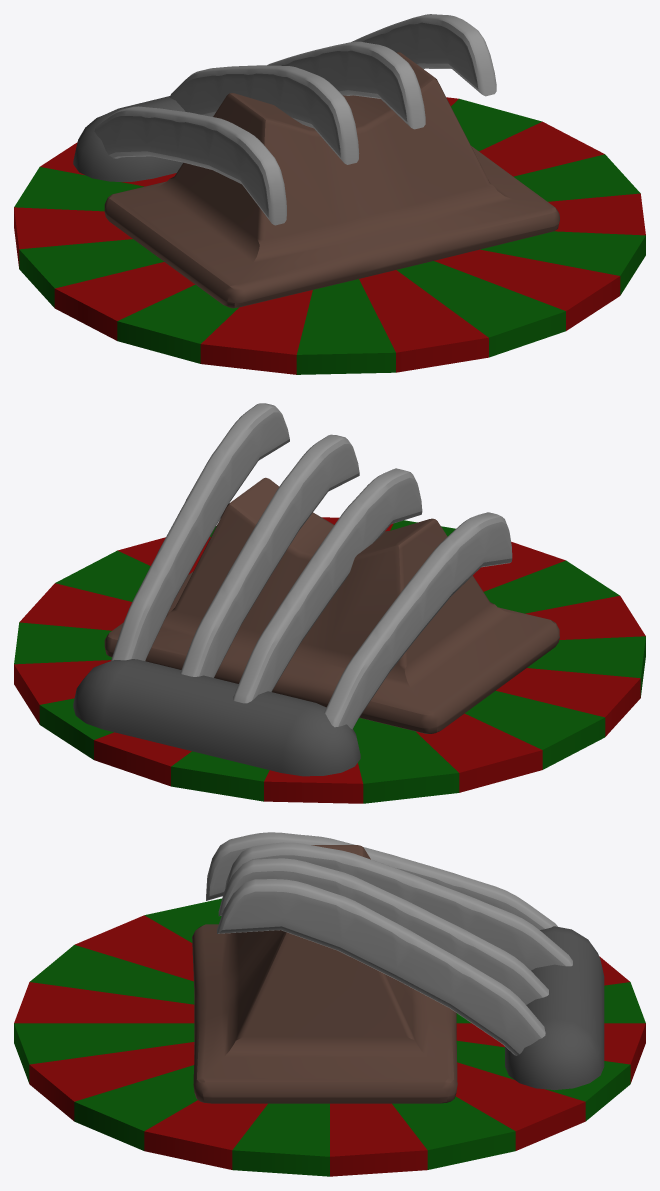
Rendered from Freddie.fbx.
3 renders of one model, top to bottom at view 1: azimuth 30°, elevation 25°; view 2: azimuth 150°, elevation 25°; view 3: azimuth 270°, elevation 25°, orthographic.
Parts seen in each view (by area): view 1: pCylinder1, pCube5, pasted__pasted__pasted__pCube6, pasted__pasted__pCube6, pCube6, pasted__pCube6, pCube7; view 2: pCylinder1, pCube5, pCube7, pasted__pCube6, pCube6, pasted__pasted__pCube6, pasted__pasted__pasted__pCube6; view 3: pCylinder1, pCube5, pasted__pCube6, pCube7, pasted__pasted__pCube6, pCube6, pasted__pasted__pasted__pCube6.
Boxes of the visible parts, x1=… form: pCylinder1: x1=14, y1=97, x2=645, y2=374; pCube5: x1=104, y1=52, x2=559, y2=308; pasted__pasted__pasted__pCube6: x1=94, y1=106, x2=286, y2=225; pasted__pasted__pCube6: x1=170, y1=65, x2=359, y2=164; pCube6: x1=267, y1=41, x2=425, y2=129; pasted__pCube6: x1=351, y1=14, x2=496, y2=96; pCube7: x1=73, y1=96, x2=185, y2=181; pCylinder1: x1=14, y1=517, x2=645, y2=803; pCube5: x1=104, y1=477, x2=559, y2=733; pCube7: x1=73, y1=659, x2=360, y2=776; pasted__pCube6: x1=111, y1=403, x2=289, y2=660; pCube6: x1=180, y1=434, x2=359, y2=677; pasted__pasted__pCube6: x1=233, y1=468, x2=422, y2=703; pasted__pasted__pasted__pCube6: x1=324, y1=512, x2=512, y2=729; pCylinder1: x1=14, y1=898, x2=645, y2=1176; pCube5: x1=192, y1=845, x2=457, y2=1103; pasted__pCube6: x1=217, y1=879, x2=545, y2=1055; pCube7: x1=505, y1=926, x2=604, y2=1090; pasted__pasted__pCube6: x1=225, y1=842, x2=572, y2=970; pCube6: x1=218, y1=858, x2=548, y2=1004; pasted__pasted__pasted__pCube6: x1=206, y1=832, x2=557, y2=929.
Bounding box in the file's own units: 4.33 × 1.6 × 4.33.
